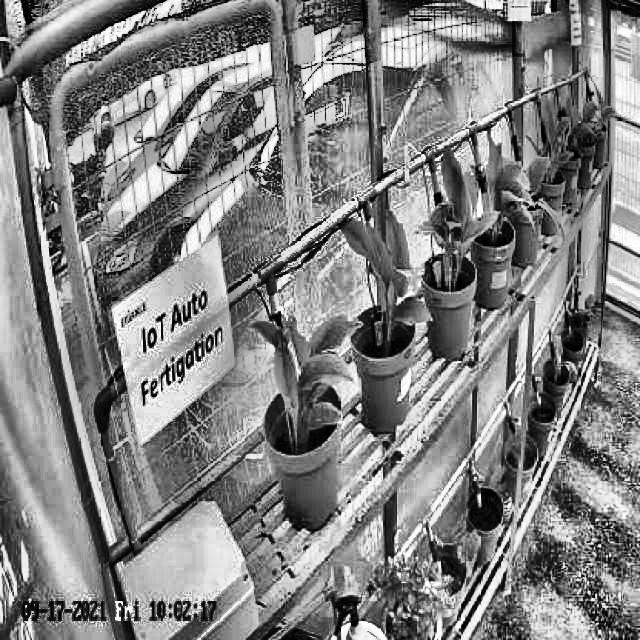plants: (248, 316, 362, 435), (342, 212, 432, 325), (418, 147, 482, 278), (484, 135, 536, 239), (544, 105, 572, 181)
